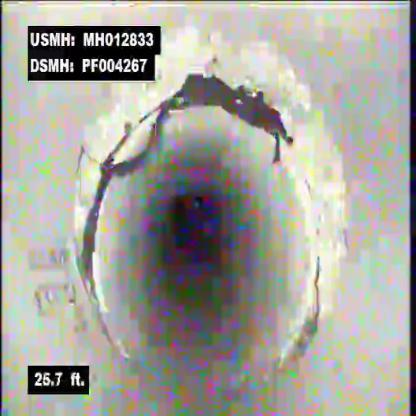jntoffs: (169, 24, 356, 376), (59, 82, 165, 330)
